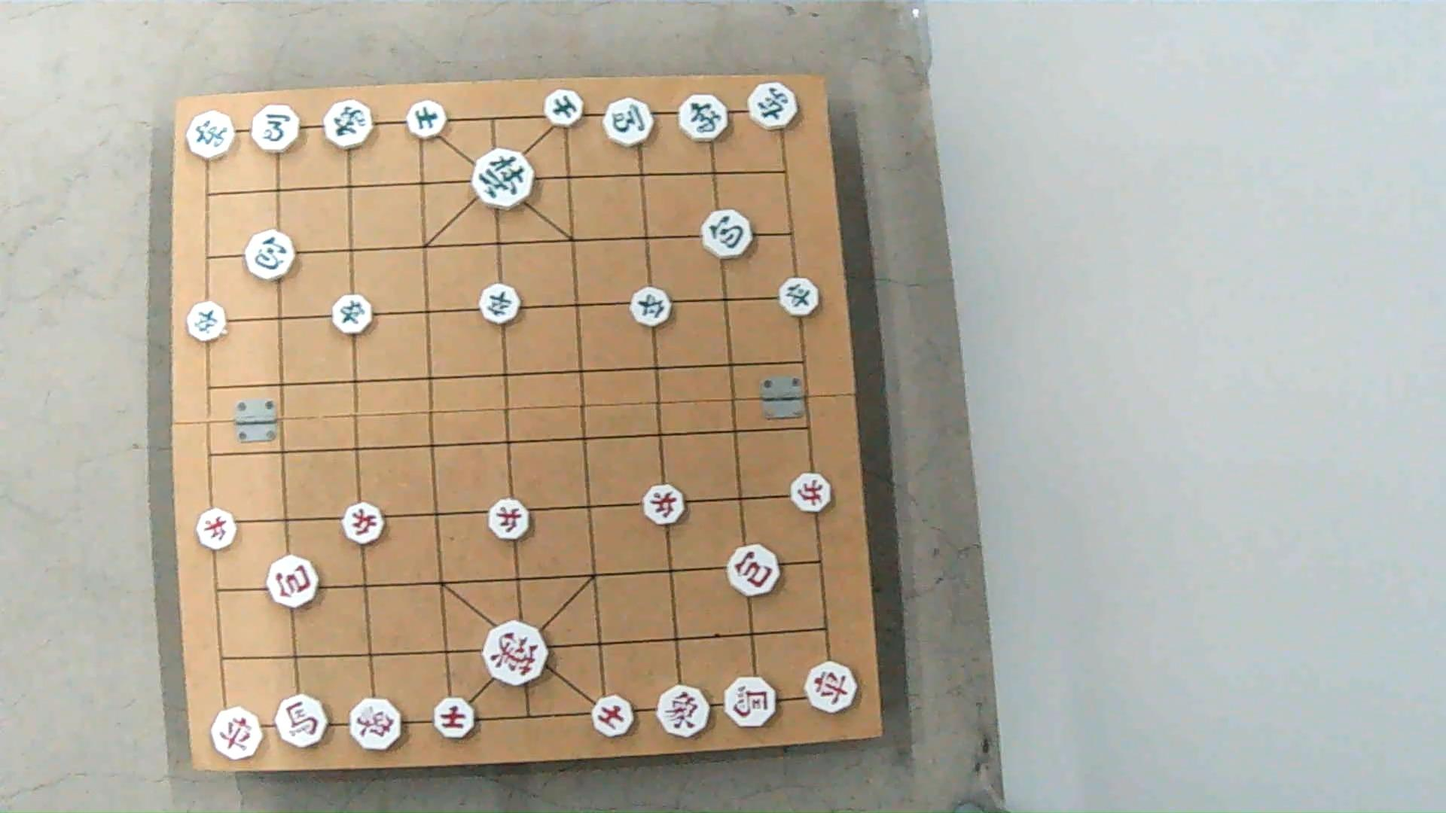cha_green: (188, 113, 240, 159), (749, 82, 798, 130)
cha_red: (213, 711, 265, 761), (804, 665, 856, 714)
jol_green: (631, 288, 673, 327), (183, 303, 226, 341), (328, 296, 372, 333), (479, 285, 520, 324), (779, 277, 822, 314)
jol_red: (642, 486, 685, 525), (487, 499, 530, 538), (345, 507, 388, 546), (788, 475, 831, 513), (197, 512, 239, 550)
ma_green: (602, 99, 654, 145), (250, 107, 302, 152)
ma_red: (276, 695, 330, 747), (725, 678, 779, 728)
po_green: (702, 209, 754, 257), (245, 230, 294, 278)
po_red: (725, 547, 779, 596), (266, 558, 318, 607)
sa_green: (405, 99, 448, 135), (544, 91, 585, 126)
sa_red: (436, 699, 479, 738), (592, 697, 635, 735)
sang_green: (325, 102, 377, 149), (676, 97, 727, 139)
sang_red: (656, 687, 712, 737), (349, 699, 403, 749)
wang_green: (471, 151, 538, 207)
wang_red: (484, 625, 548, 685)
